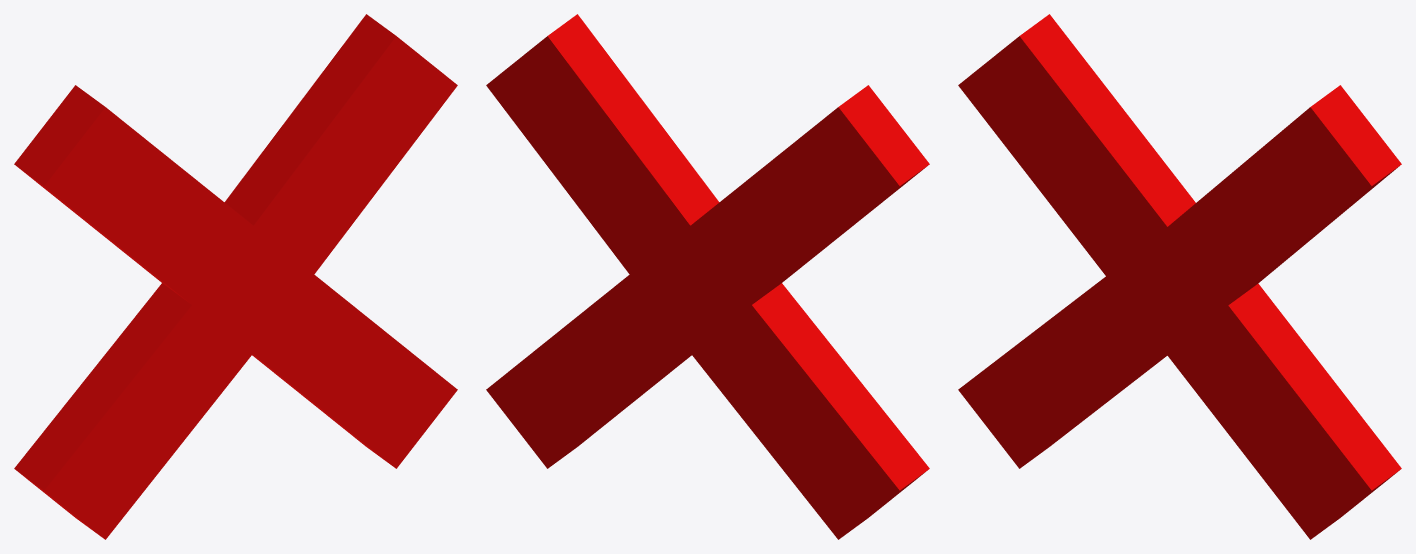
The model's file is Key_Cross.fbx.
3 renders of one model, left to right at view 1: azimuth 30°, elevation 25°; view 2: azimuth 150°, elevation 25°; view 3: azimuth 330°, elevation 25°, orthographic.
Parts seen in each view (by area): view 1: pCube3; view 2: pCube3; view 3: pCube3.
Boxes of the visible parts, x1=… form: pCube3: x1=14, y1=14, x2=457, y2=539; pCube3: x1=486, y1=14, x2=929, y2=539; pCube3: x1=958, y1=14, x2=1401, y2=539.
Bounding box in the file's own units: 16.04 × 16.04 × 2.02.
